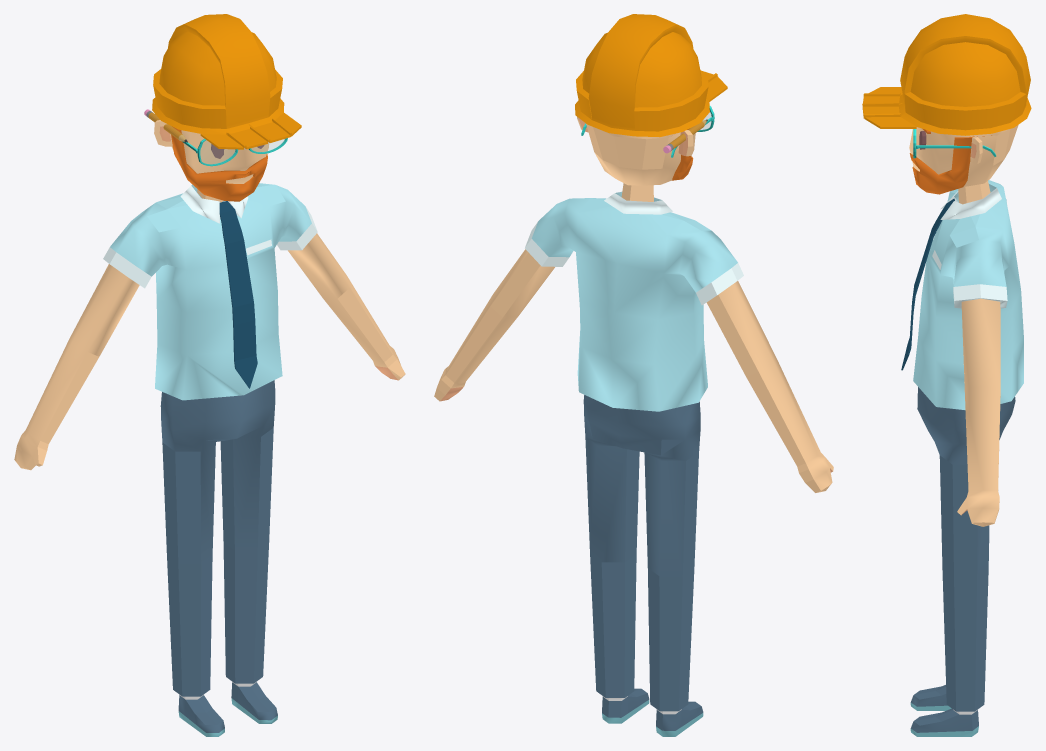
The model's file is Kevin.glb.
3 views of the same model, side by side, from view 1: azimuth 30°, elevation 25°; view 2: azimuth 150°, elevation 25°; view 3: azimuth 270°, elevation 25° (orthographic). The views are drawn at different scales.
Visible parts, largest first — view 1: Cylinder.003; view 2: Cylinder.003; view 3: Cylinder.003.
Boxes of the visible parts, x1,y1,x2,y2 form: Cylinder.003: (14, 14, 405, 736); Cylinder.003: (434, 14, 833, 736); Cylinder.003: (862, 14, 1031, 736).
Bounding box in the file's own units: 2.74 × 4.71 × 1.03.
9 materials, 1 textured.
